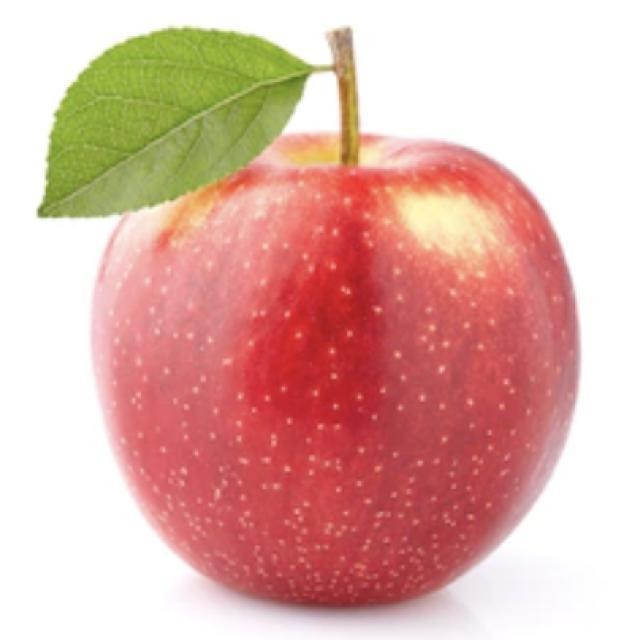Fresh Apple: (95, 135, 567, 608)
